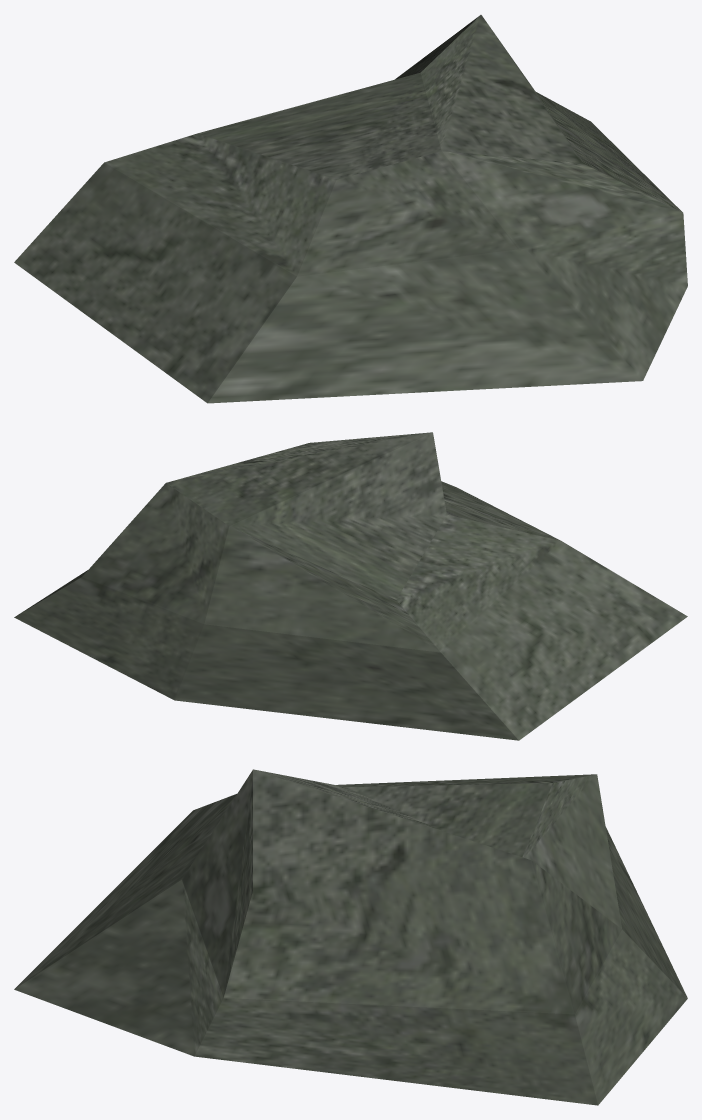
Rendered from boulder1.fbx.
The picture shows the model from 3 angles, top to bottom: view 1: azimuth 30°, elevation 25°; view 2: azimuth 150°, elevation 25°; view 3: azimuth 270°, elevation 25°; orthographic projection. The views are drawn at different scales.
Visible parts, largest first — view 1: Cube; view 2: Cube; view 3: Cube.
Boxes of the visible parts, <box> form: Cube: <box>14,15,687,403</box>; Cube: <box>14,432,687,740</box>; Cube: <box>14,769,687,1105</box>.
Size of the model in its own units: 212 by 61.77 by 205.
